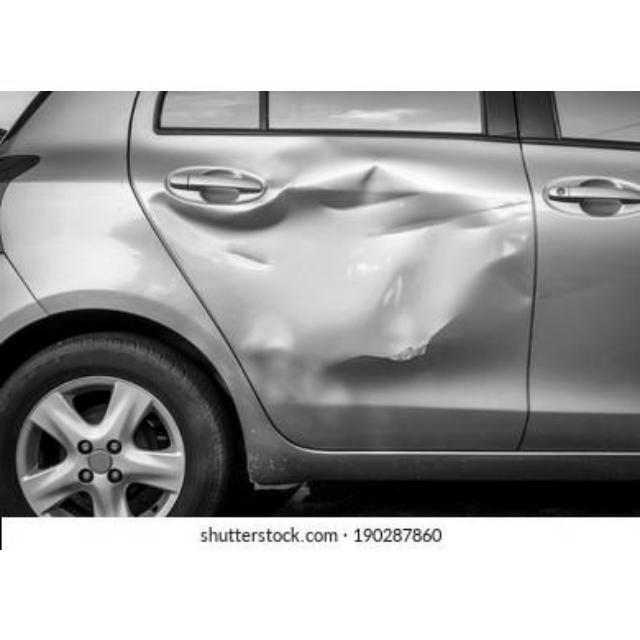doorouter-dent: (211, 137, 526, 396)
